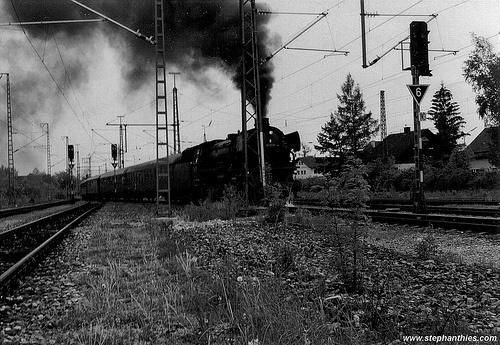train: (79, 116, 301, 206)
